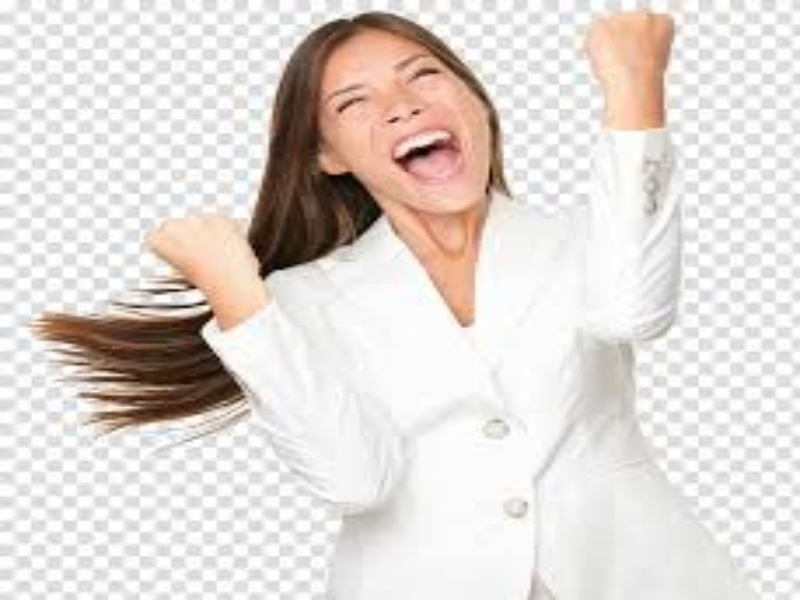person: (45, 6, 760, 592)
